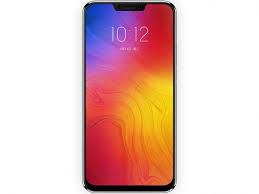lenovo: (79, 1, 179, 194)
